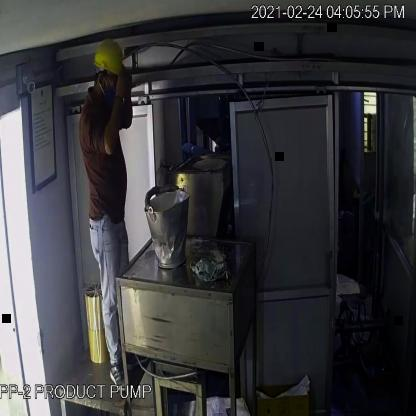helmet: (92, 30, 132, 83)
